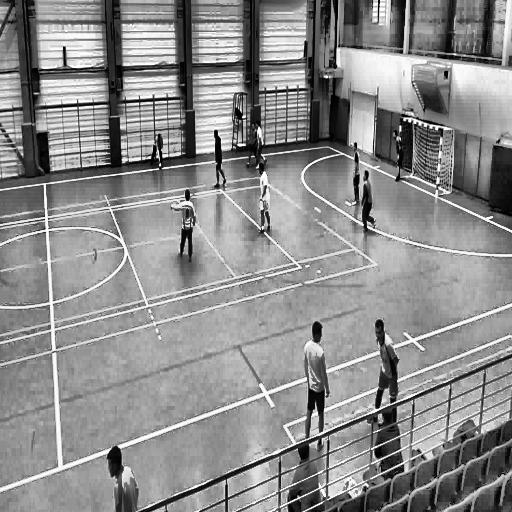ball: (158, 163, 163, 172)
player: (301, 317, 330, 455), (373, 316, 399, 426), (170, 188, 199, 265), (255, 163, 273, 237), (360, 168, 379, 237), (212, 126, 228, 195), (391, 124, 406, 189), (351, 140, 362, 208), (244, 120, 259, 168), (150, 133, 168, 170), (256, 117, 266, 170)
